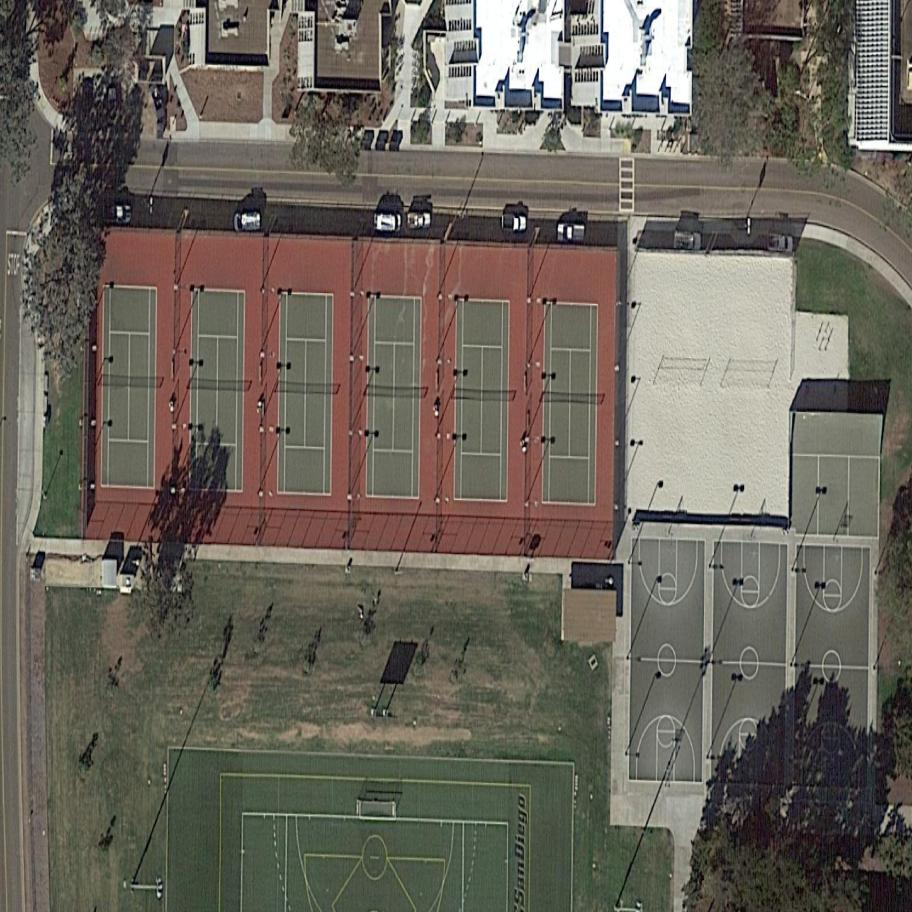large-vehicle: (556, 222, 586, 245), (500, 214, 528, 232)
small-vehicle: (764, 231, 797, 257), (670, 228, 704, 253), (234, 211, 261, 233), (104, 205, 132, 226), (375, 214, 402, 232), (408, 213, 431, 229)
